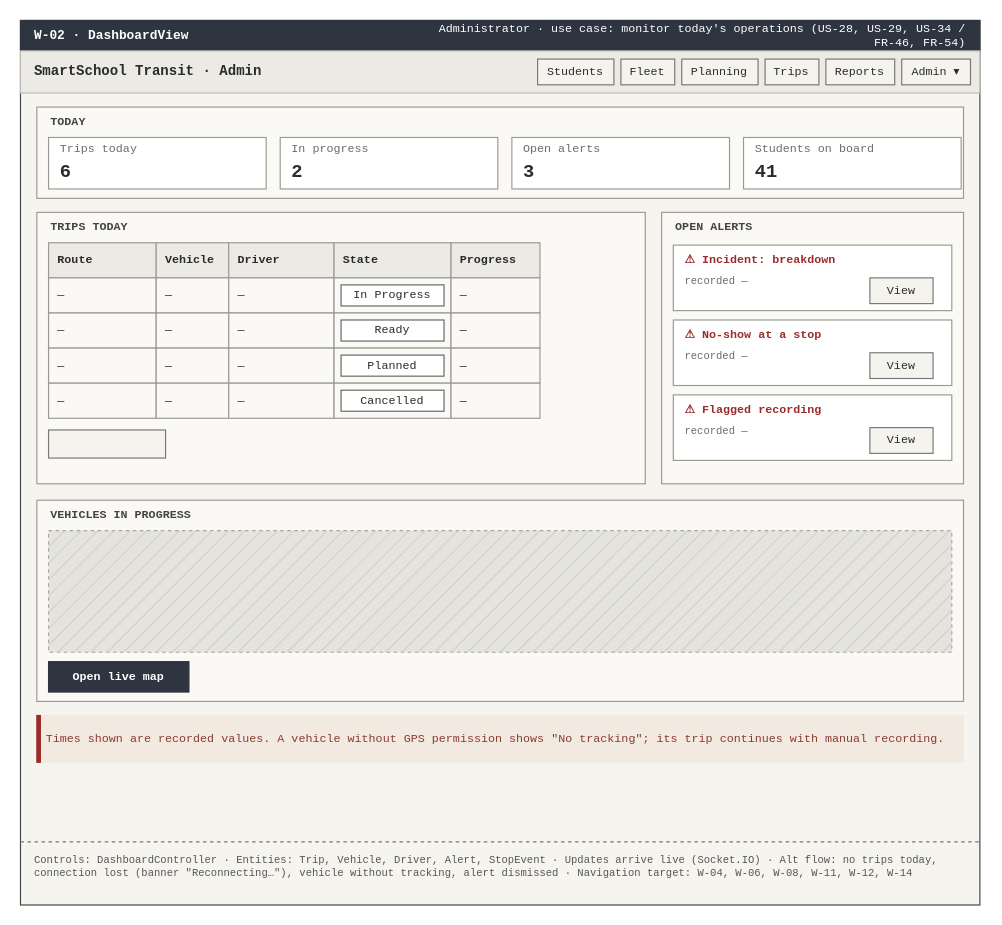
The diagram is 1002 pixels wide and 925 high, and some of its shapes have lost their labels. The shapes that lost their labels are listed below. From the top down, each one's centre as x and y in pixels, then its label:
[106,443]: View all trips
[499,590]: illustration (map of vehicles in progress)
